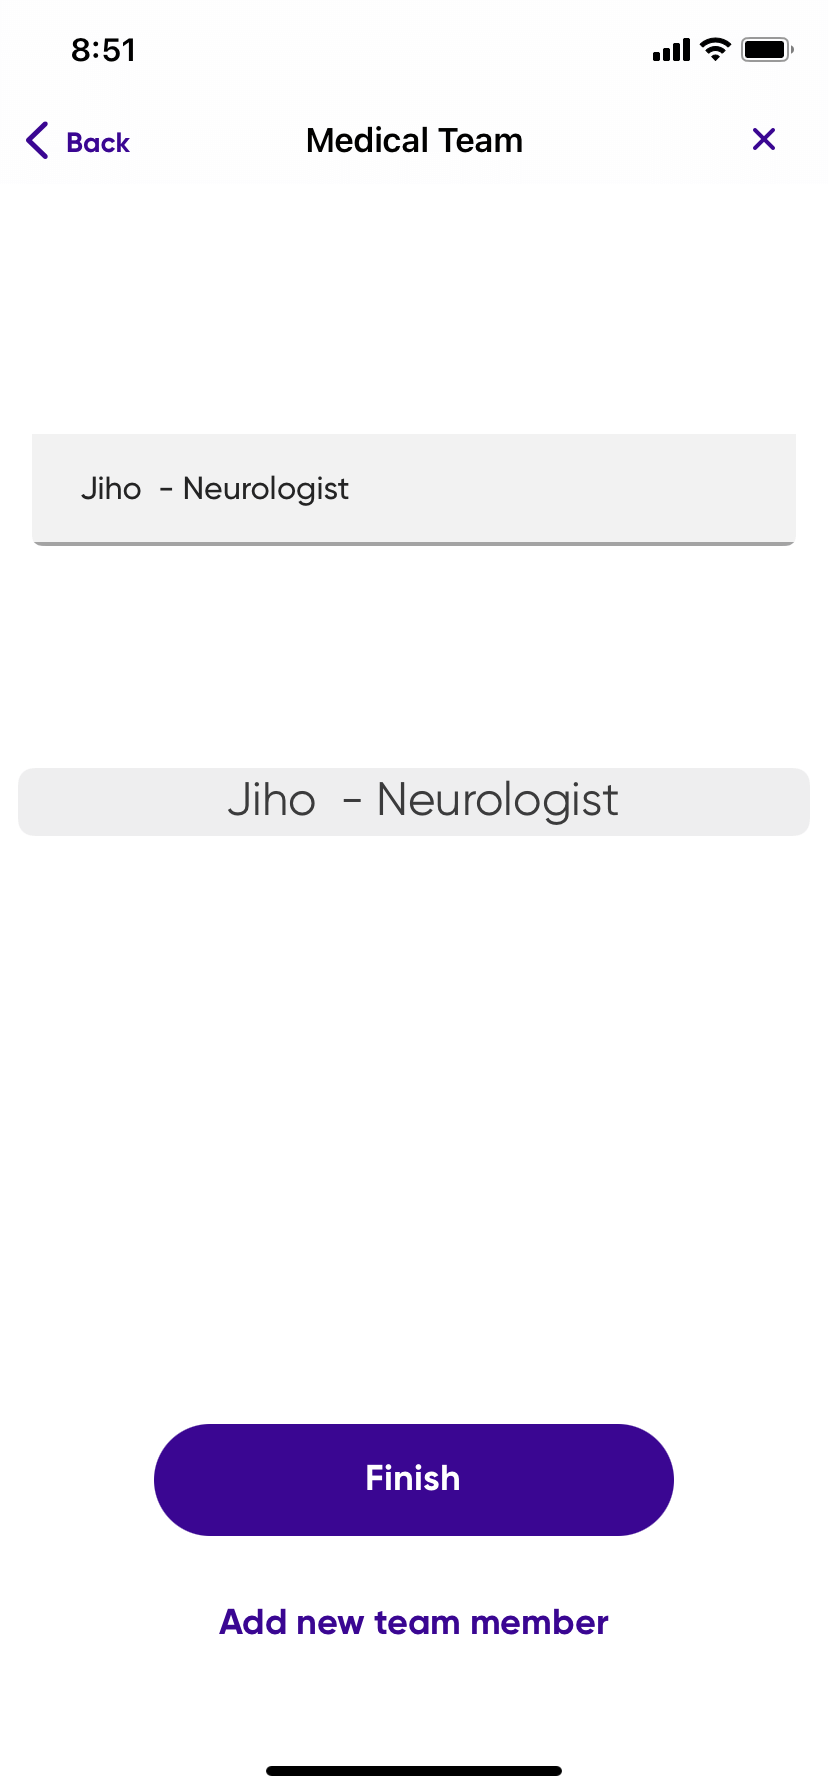Buttons: (148, 1415, 683, 1549), (150, 1598, 683, 1653), (7, 94, 164, 185), (712, 96, 803, 185)
Text Fields: (22, 419, 805, 557)
